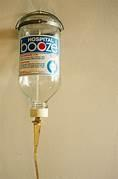Iv_Bottle: (16, 11, 62, 107)
